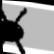not correct: (0, 2, 32, 54)
